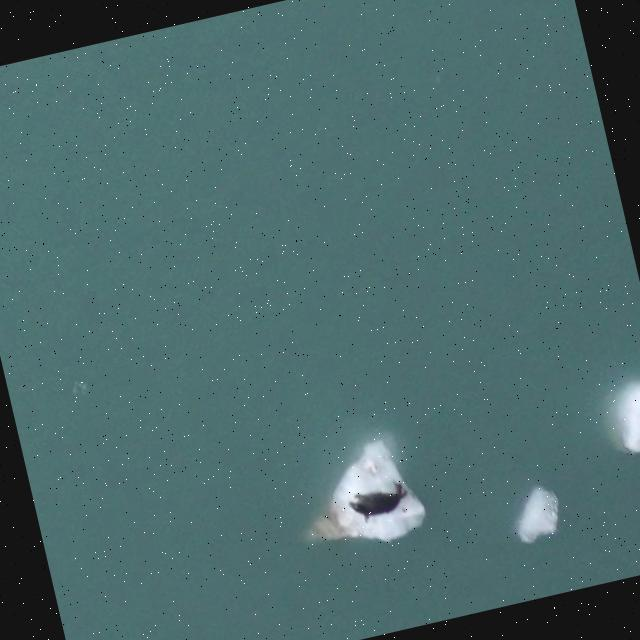seal: (346, 477, 408, 524)
